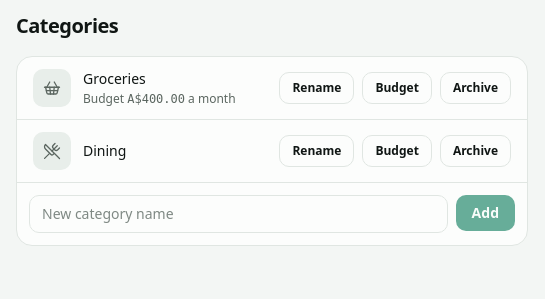
it: CategoryManager › budgets › keeps the field open and says so when the save fails
Click the button with aria-label "Budget for Dining" at {"x": 397, "y": 151}, box [362,135,432,167]
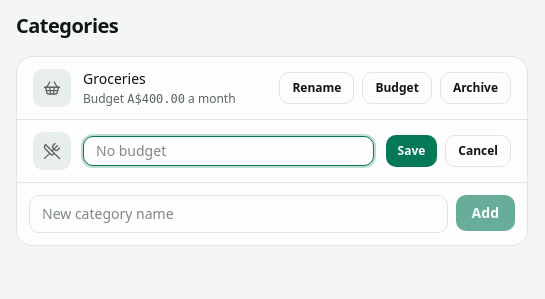
Type "90" into the field named "Monthly budget for Dining" at {"x": 228, "y": 151}, box [83,136,374,166]
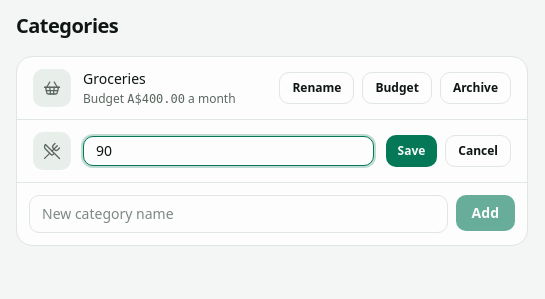
Click the button "Save" at {"x": 411, "y": 151}, box [386,135,437,167]
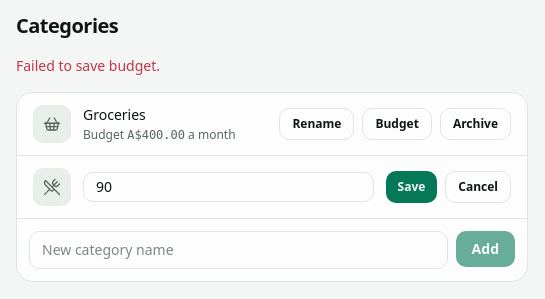
Result: the text "Failed to save budget." is shown at [16,56,160,75]
